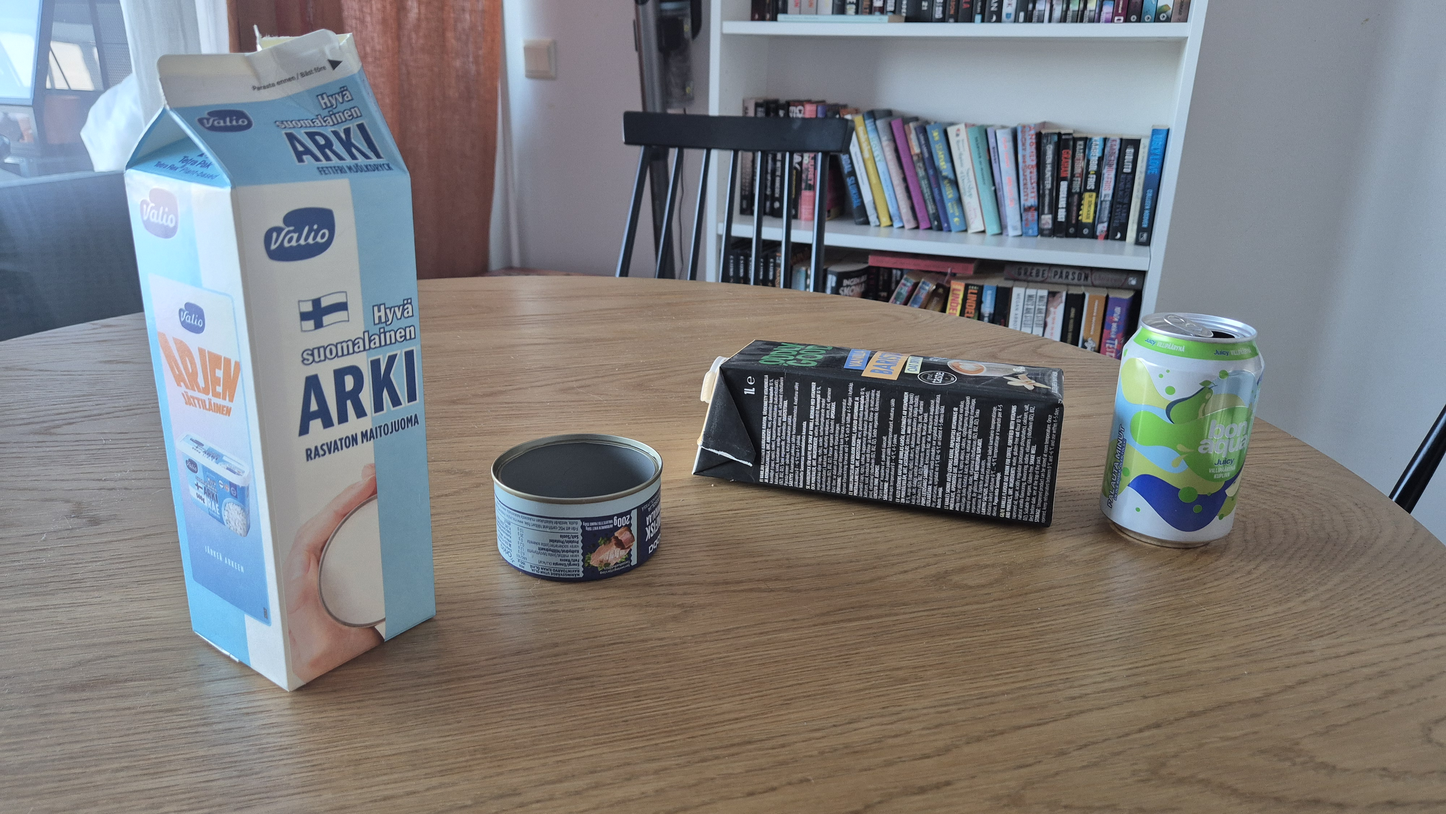Dryckeskartong: (122, 27, 436, 692), (692, 340, 1064, 526)
Konservburk: (491, 434, 663, 582)
Pantburk: (1099, 312, 1266, 548)
